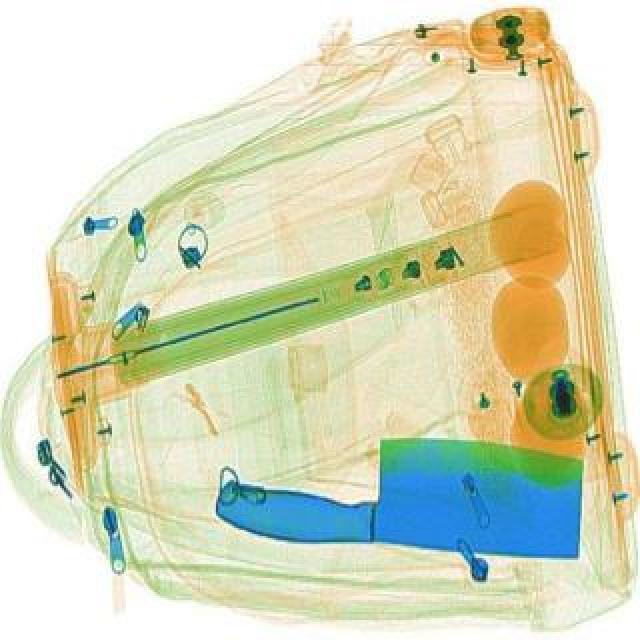knife: (208, 410, 592, 578)
